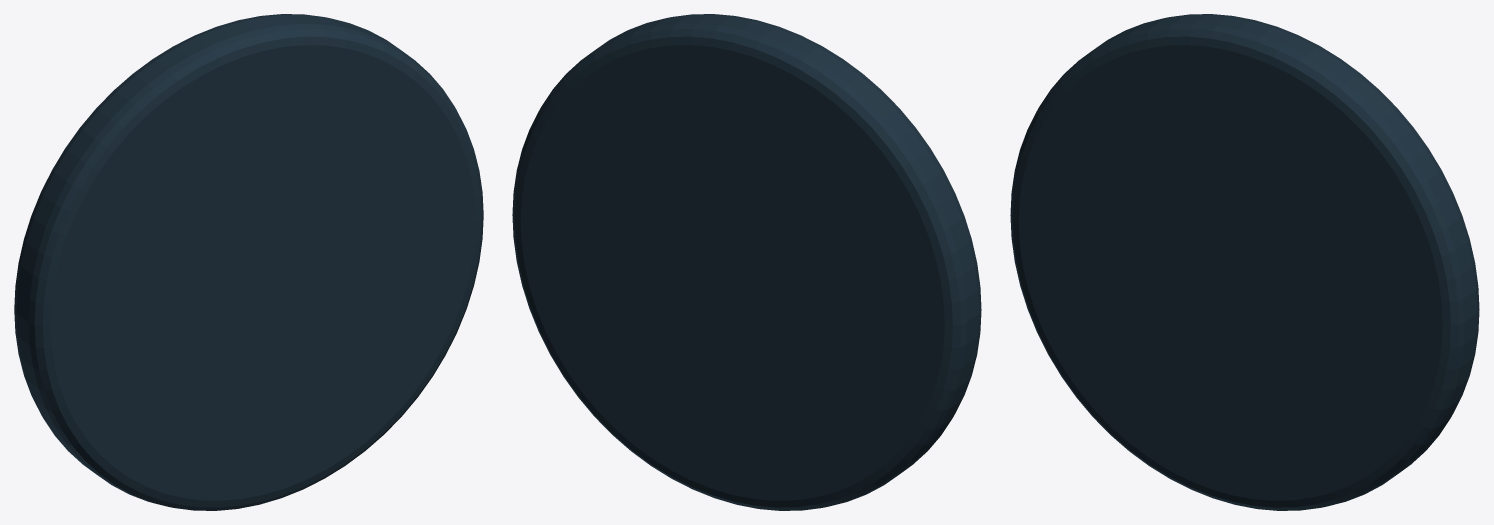
The model's file is SM_HC_BeatSpeaker_09.fbx.
The picture shows the model from 3 angles, left to right: view 1: azimuth 30°, elevation 25°; view 2: azimuth 150°, elevation 25°; view 3: azimuth 330°, elevation 25°; orthographic projection.
Visible parts, largest first — view 1: SM_HC_BeatSpeaker_09; view 2: SM_HC_BeatSpeaker_09; view 3: SM_HC_BeatSpeaker_09.
Boxes of the visible parts, x1,y1,x2,y2 form: SM_HC_BeatSpeaker_09: (14, 14, 483, 510); SM_HC_BeatSpeaker_09: (512, 14, 981, 510); SM_HC_BeatSpeaker_09: (1010, 14, 1479, 510).
Bounding box in the file's own units: 128 × 14.1 × 128.
